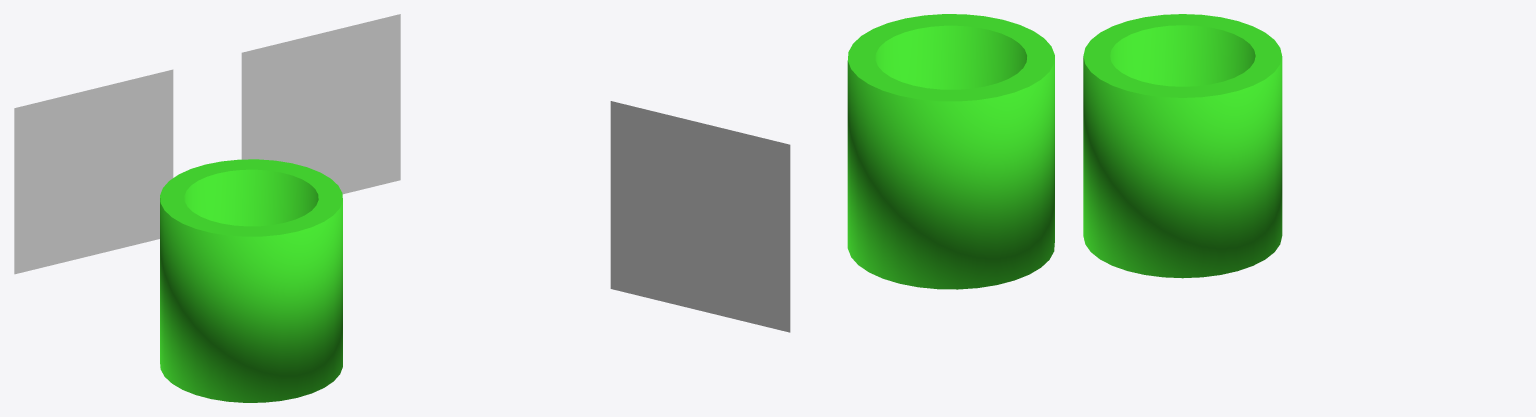
File: backface2.gltf
The picture shows the model from 3 angles, left to right: view 1: azimuth 30°, elevation 25°; view 2: azimuth 150°, elevation 25°; view 3: azimuth 270°, elevation 25°; orthographic projection. The views are drawn at different scales.
Parts seen in each view (by area): view 1: Plane.002, Cylinder; view 2: Cylinder, Plane.001; view 3: Cylinder.
Boxes of the visible parts, x1,y1,x2,y2 form: Plane.002: [14, 14, 400, 274]; Cylinder: [160, 159, 342, 402]; Cylinder: [847, 14, 1054, 289]; Plane.001: [610, 101, 790, 332]; Cylinder: [1083, 14, 1282, 278].
Size of what is drawn, in the model's own units: 4.86 by 2.06 by 4.41.
